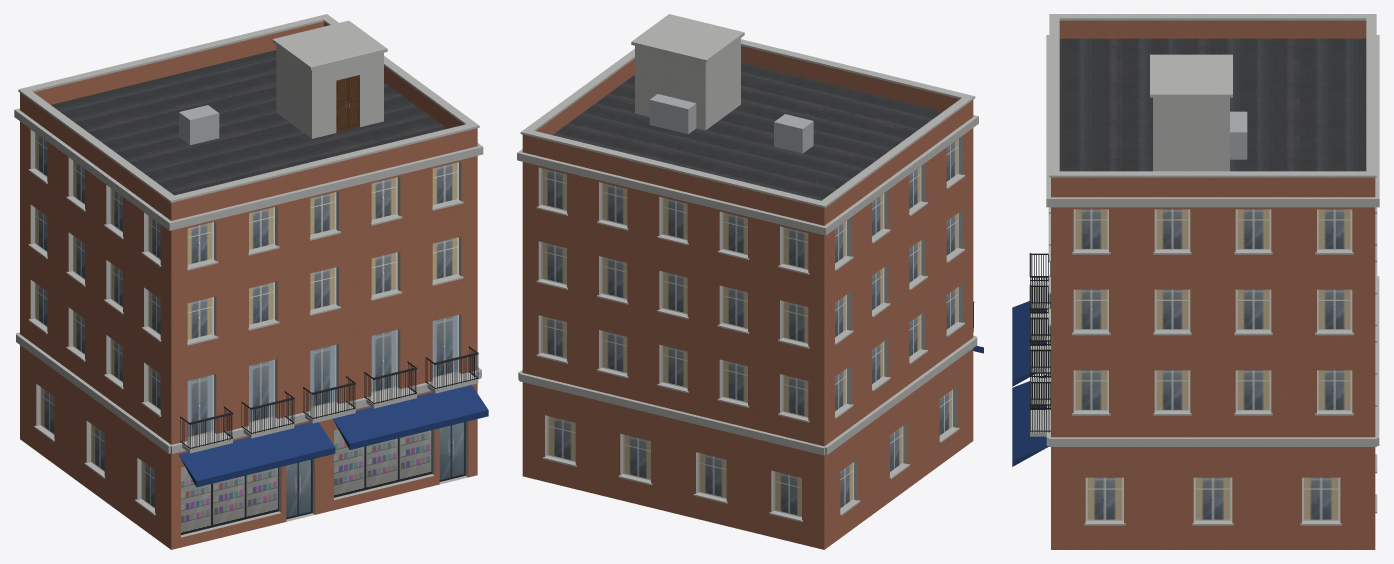
The model's file is edificio_08_comercial_viviendas.glb.
3 views of the same model, side by side, from view 1: azimuth 30°, elevation 25°; view 2: azimuth 150°, elevation 25°; view 3: azimuth 270°, elevation 25° (orthographic). The views are drawn at different scales.
Parts seen in each view (by area): view 1: EB08_comercial_viviendas; view 2: EB08_comercial_viviendas; view 3: EB08_comercial_viviendas.
Boxes of the visible parts, bbox=[...] form: EB08_comercial_viviendas: bbox=[14, 14, 488, 549]; EB08_comercial_viviendas: bbox=[517, 14, 983, 549]; EB08_comercial_viviendas: bbox=[1012, 14, 1379, 549].
Bounding box in the file's own units: 13.12 × 16.12 × 12.41.
Materials: 8 (5 with a texture image).
